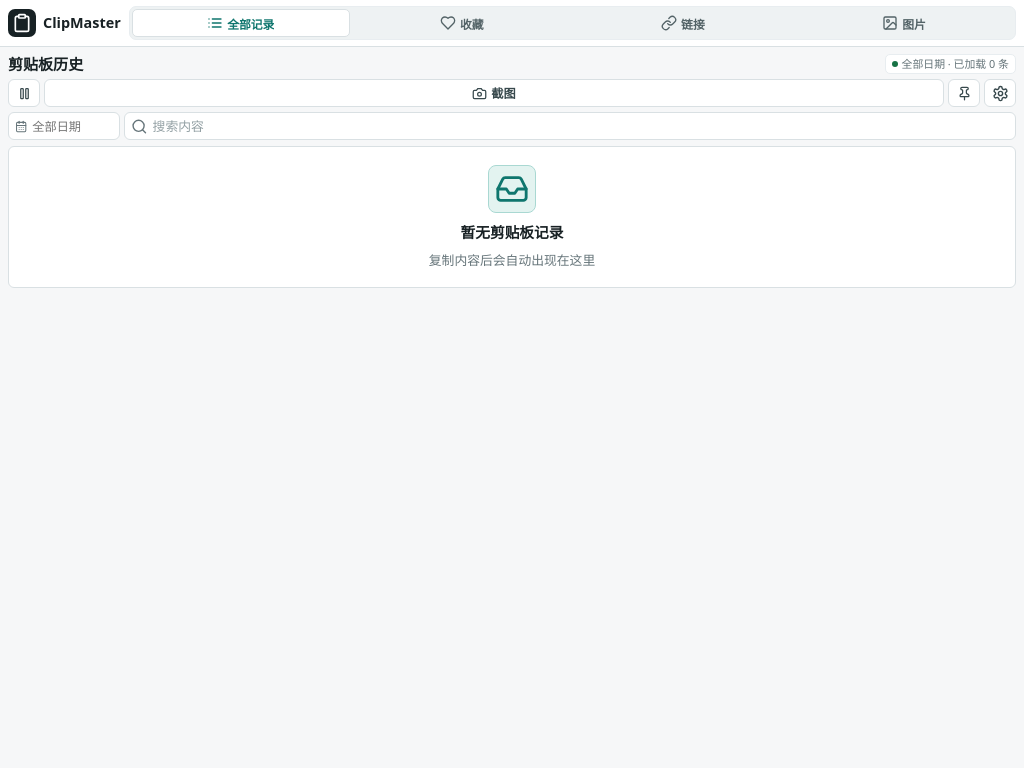
App UI › shows a toast error when there is no image to pin
Click the 2nd button named "钉住".
click(964, 93)  # box 948,79 -> 980,107
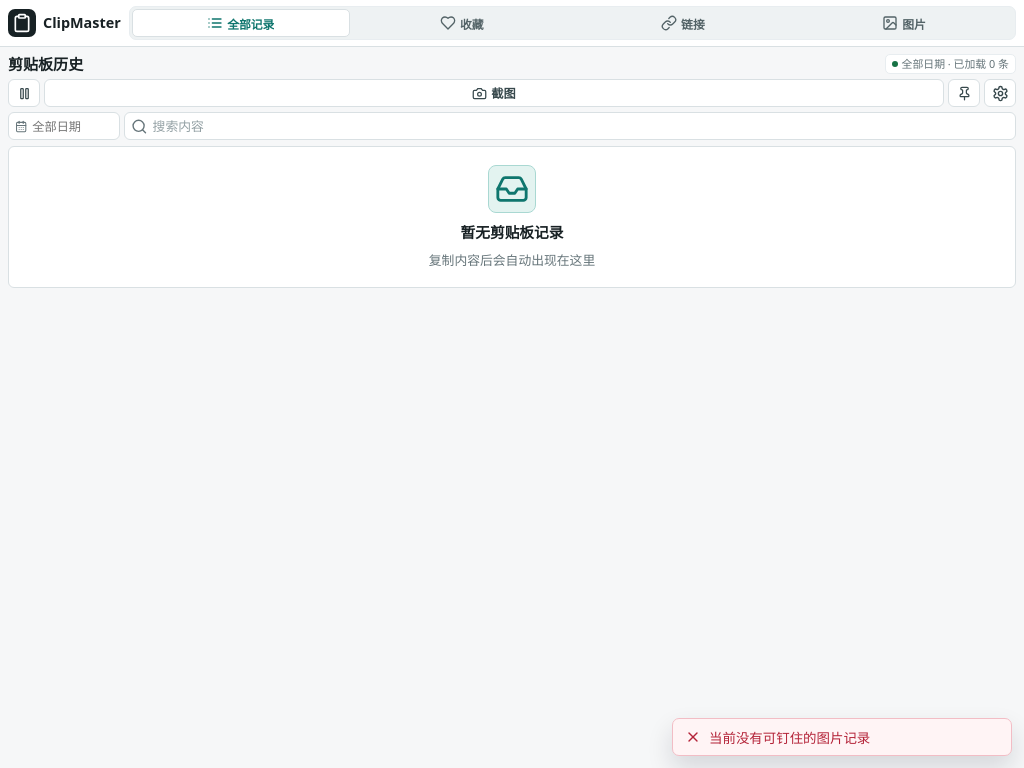
Expected: the message reads "当前没有可钉住的图片记录", 709,729 -> 870,747
